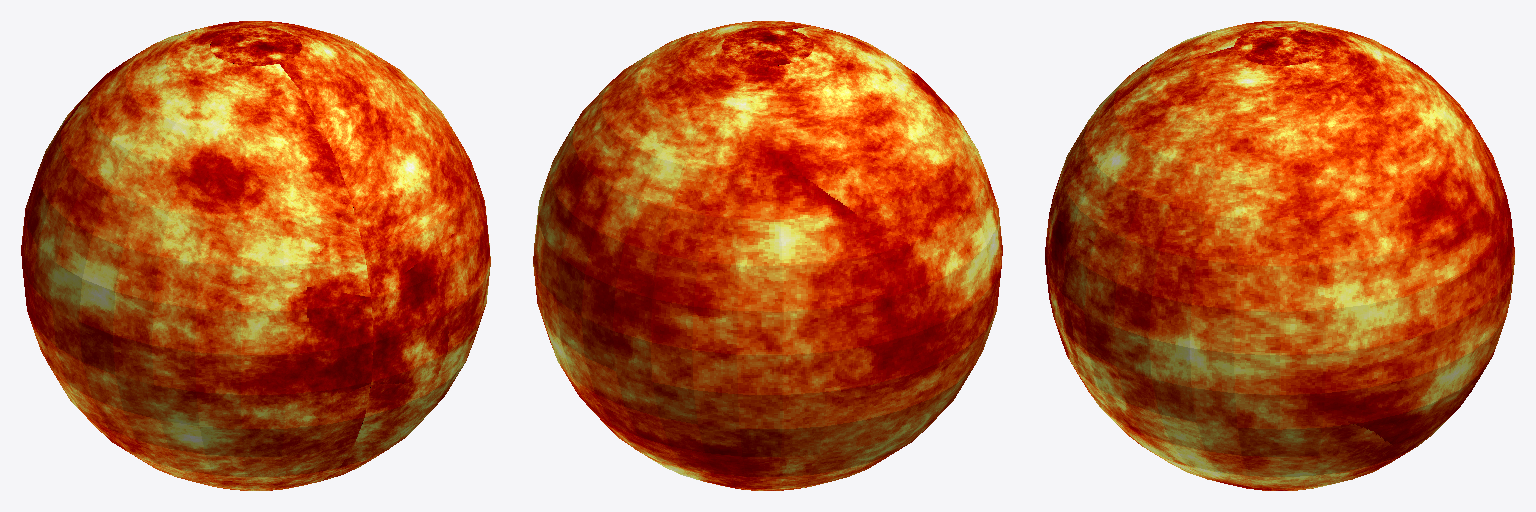
3 renders of one model, left to right at view 1: azimuth 30°, elevation 25°; view 2: azimuth 150°, elevation 25°; view 3: azimuth 270°, elevation 25°, orthographic.
Parts seen in each view (by area): view 1: planeta1; view 2: planeta1; view 3: planeta1.
Part boxes in pixels (x1,y1,x2,y2): planeta1: (21,21,490,490); planeta1: (533,21,1002,490); planeta1: (1045,21,1514,490).
Size of the model in its own units: 4 by 4 by 4.
Materials: 1 (1 with a texture image).